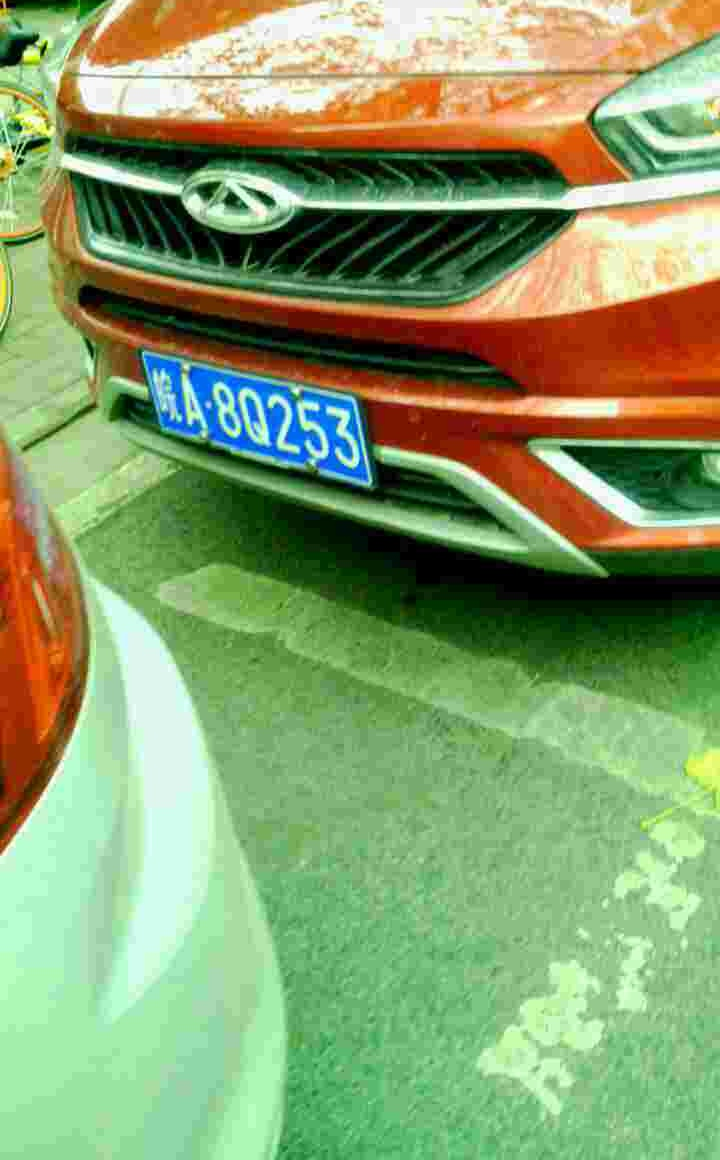license_plate: (152, 360, 372, 483)
